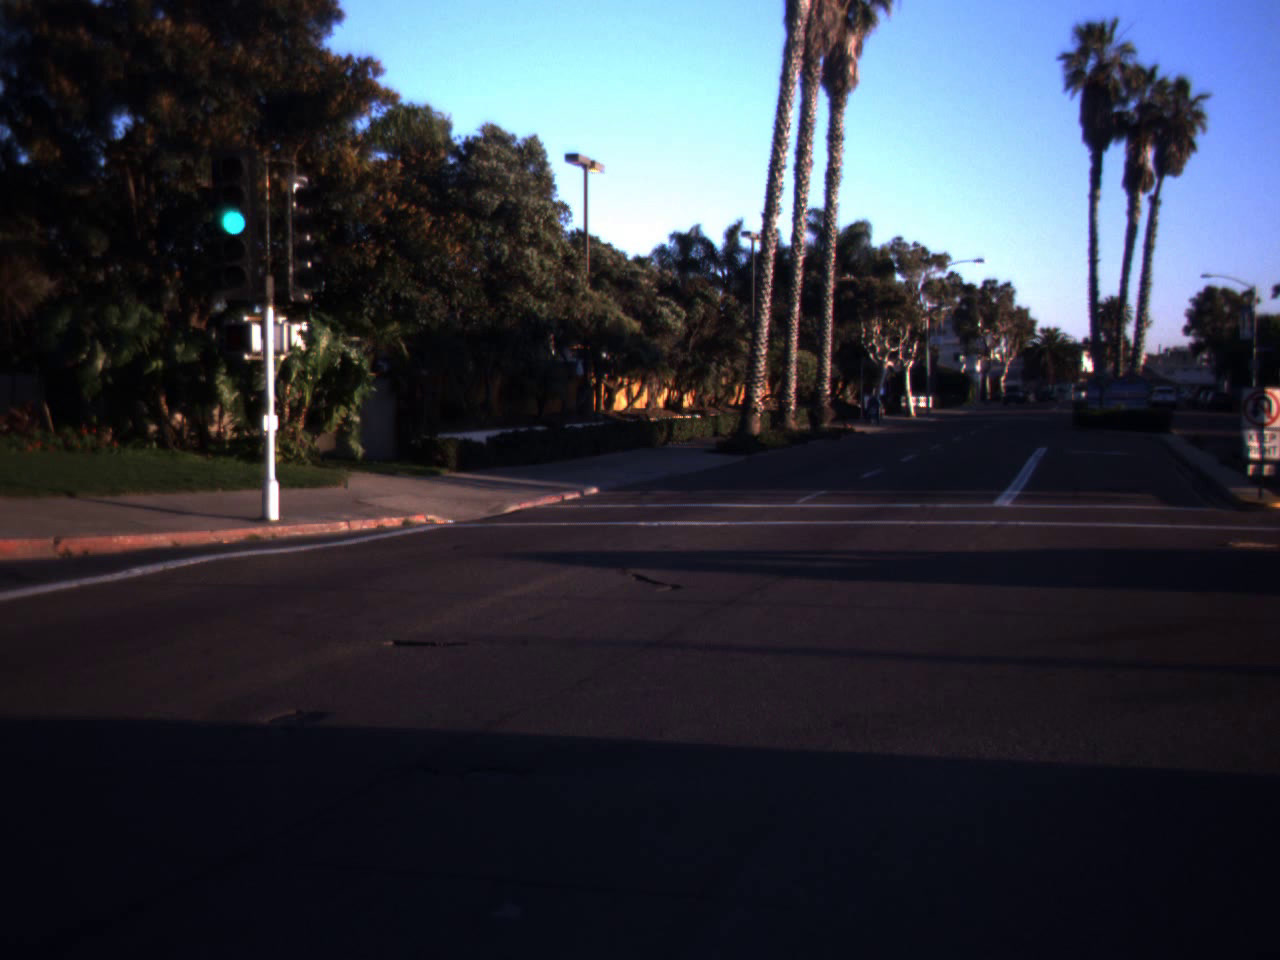go: (204, 135, 264, 245)
